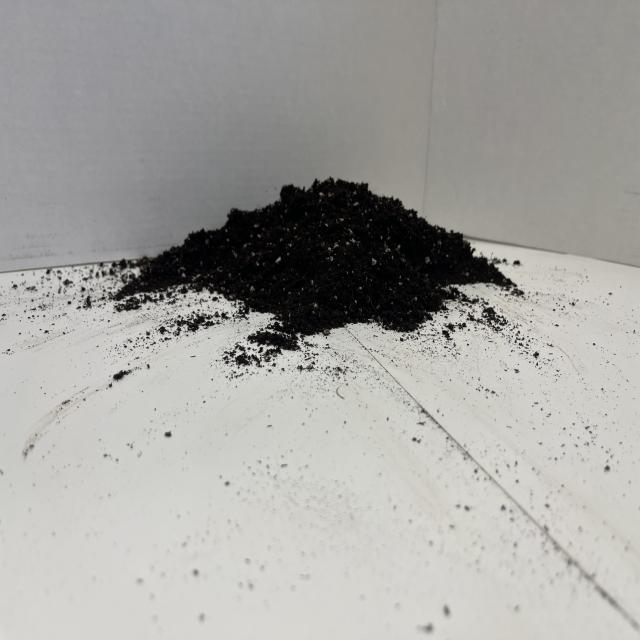soil: (112, 173, 522, 347)
